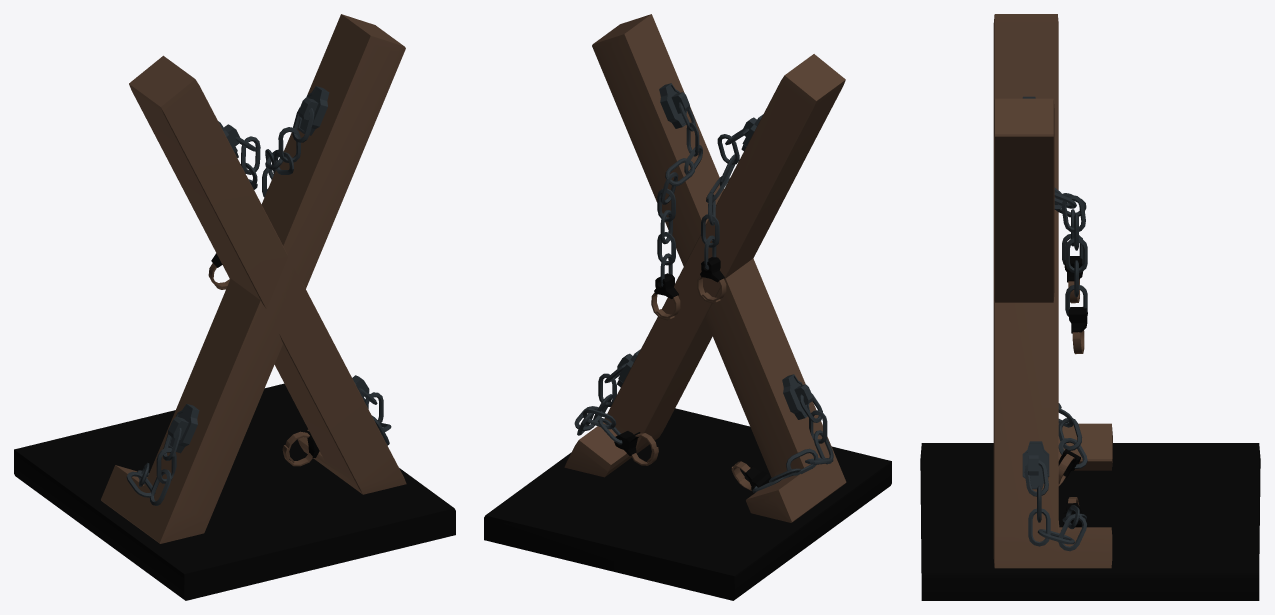
Rendered from Xstocks.fbx.
3 renders of one model, left to right at view 1: azimuth 30°, elevation 25°; view 2: azimuth 150°, elevation 25°; view 3: azimuth 270°, elevation 25°, orthographic. The views are drawn at different scales.
Visible parts, largest first — view 1: Xstock.004; view 2: Xstock.004; view 3: Xstock.004.
Boxes of the visible parts, x1,y1,x2,y2 form: Xstock.004: (14,14,455,600); Xstock.004: (484,14,891,600); Xstock.004: (920,14,1260,600).
Size of the model in its own units: 1.41 by 2.41 by 1.54.
